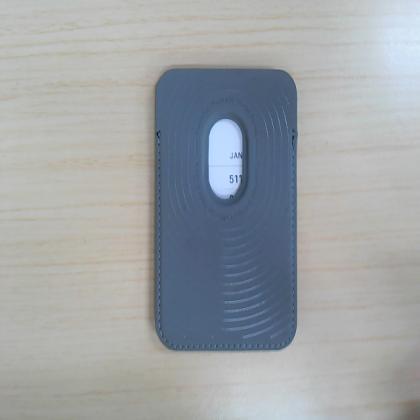pics: (155, 68, 297, 350)
